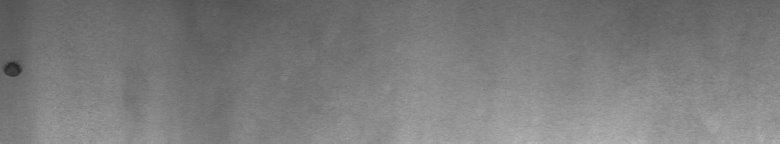fi: (4, 52, 28, 84)
